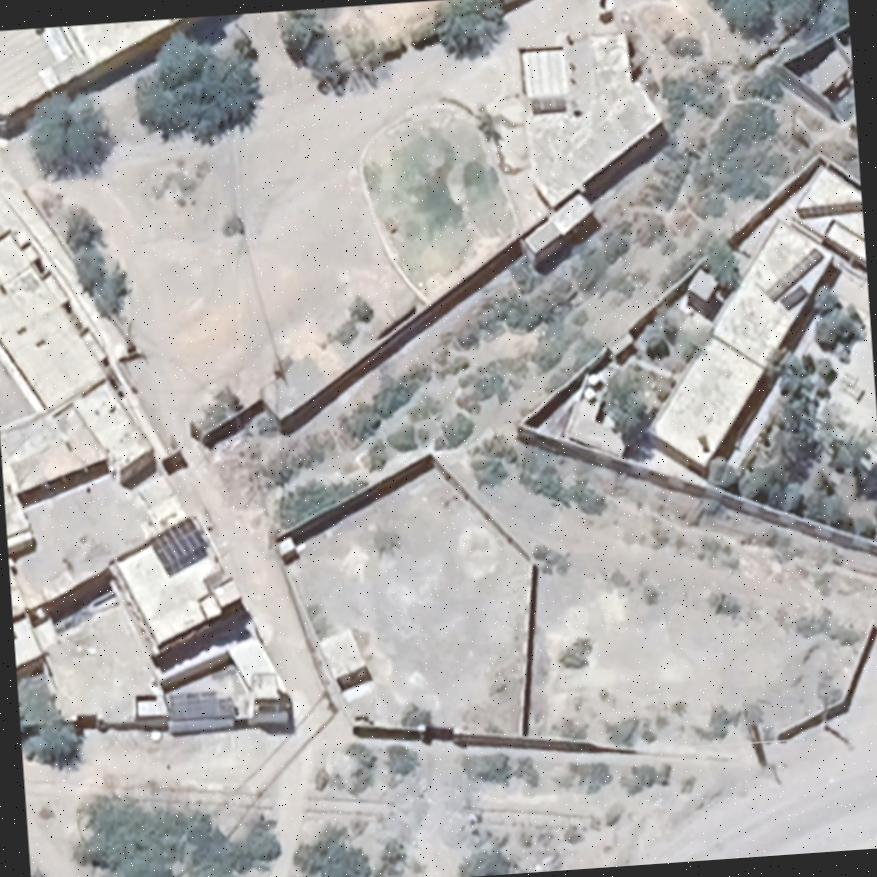Solarpanel: (148, 515, 210, 575), (764, 244, 825, 302), (165, 687, 236, 734), (778, 283, 809, 312), (249, 704, 290, 724)
